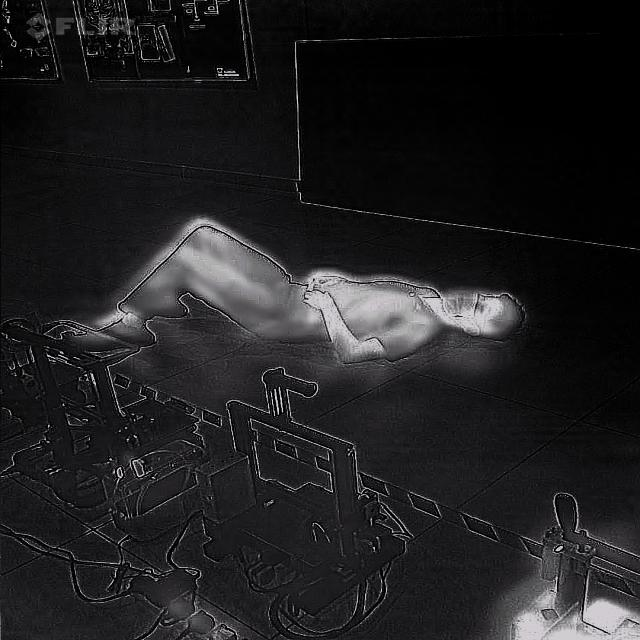Victim: (45, 212, 528, 374)
